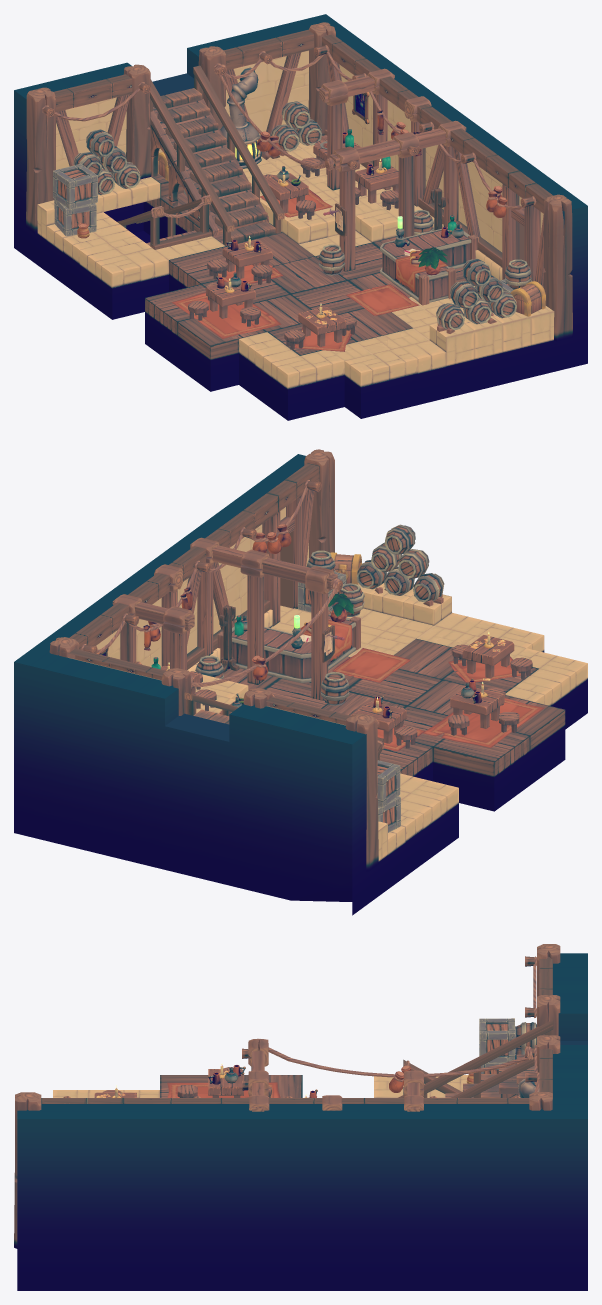
The model's file is fantasy_game_inn.glb.
The picture shows the model from 3 angles, top to bottom: view 1: azimuth 30°, elevation 25°; view 2: azimuth 150°, elevation 25°; view 3: azimuth 270°, elevation 25°; orthographic projection. The views are drawn at different scales.
Parts seen in each view (by area): view 1: TheInn_bakeInn_0; view 2: TheInn_bakeInn_0; view 3: TheInn_bakeInn_0.
Boxes of the visible parts, x1,y1,x2,y2 form: TheInn_bakeInn_0: (14, 14, 587, 420); TheInn_bakeInn_0: (14, 449, 587, 915); TheInn_bakeInn_0: (14, 944, 587, 1290).
Bounding box in the file's own units: 10.94 × 5.58 × 15.91.
1 material, 1 textured.
